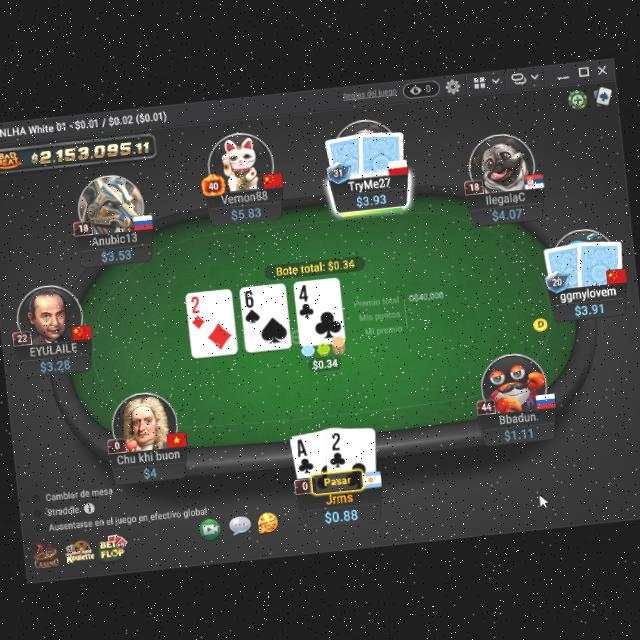2c: (324, 428, 348, 472)
2d: (188, 292, 208, 332)
4c: (294, 281, 316, 320)
6s: (240, 286, 262, 324)
Ac: (292, 434, 318, 477)
bet_text: (309, 354, 342, 370)
card_back: (354, 124, 412, 184), (573, 232, 626, 290), (322, 130, 372, 186), (540, 240, 588, 292)
dealer: (530, 313, 552, 335)
pot_text: (274, 255, 357, 278)
stack_text: (320, 504, 362, 526), (35, 354, 73, 374), (98, 243, 134, 264), (228, 202, 264, 222), (500, 423, 536, 443), (572, 300, 608, 318), (490, 205, 526, 223), (354, 191, 389, 209), (140, 462, 160, 482)
